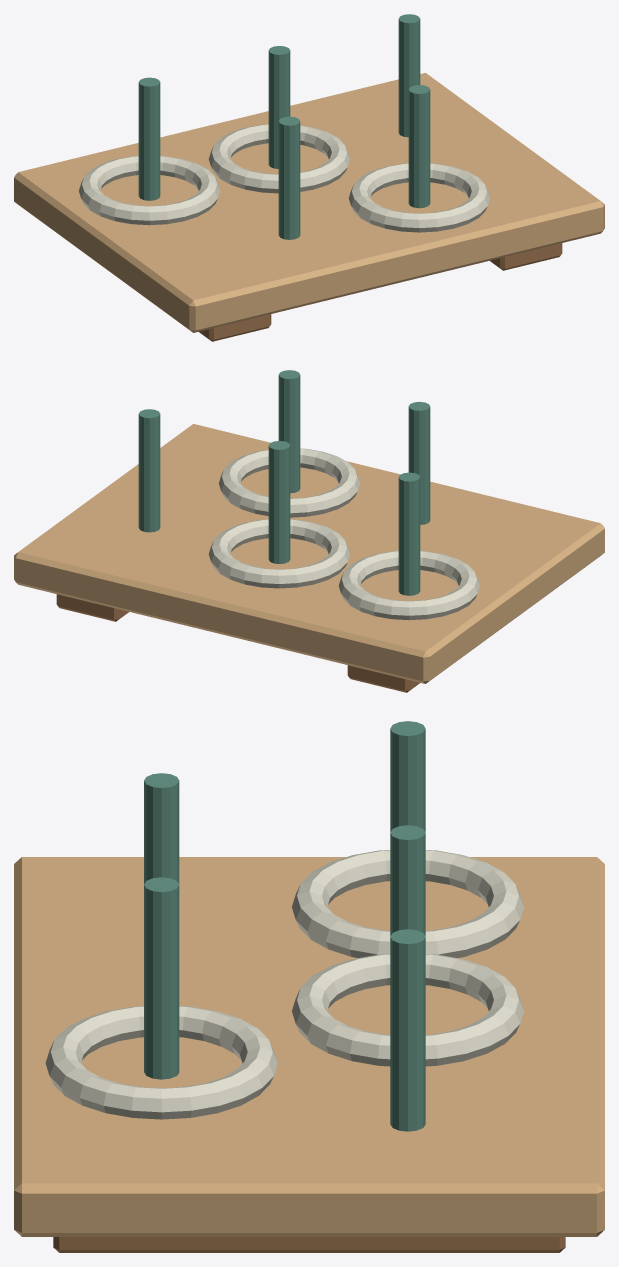
The picture shows the model from 3 angles, top to bottom: view 1: azimuth 30°, elevation 25°; view 2: azimuth 150°, elevation 25°; view 3: azimuth 270°, elevation 25°; orthographic projection. The views are drawn at different scales.
Visible parts, largest first — view 1: carnival-ring-toss-01; view 2: carnival-ring-toss-01; view 3: carnival-ring-toss-01.
Boxes of the visible parts, x1,y1,x2,y2 form: carnival-ring-toss-01: [14, 14, 604, 341]; carnival-ring-toss-01: [14, 370, 604, 692]; carnival-ring-toss-01: [14, 721, 604, 1252].
Bounding box in the file's own units: 0.8 × 0.315 × 0.6.
